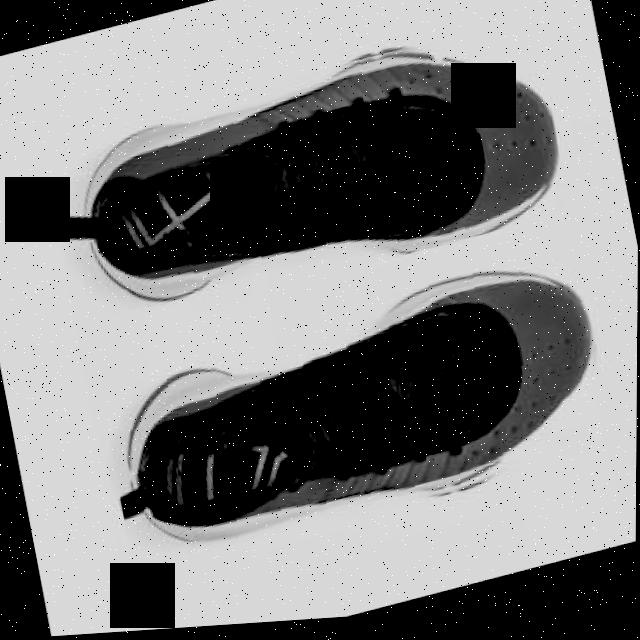shoe: (96, 251, 621, 584), (60, 15, 572, 338)
